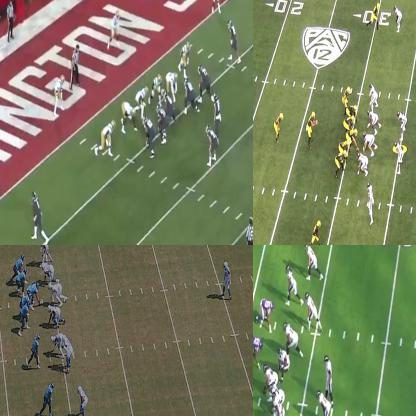CENTER: (264, 363, 280, 392), (346, 128, 360, 147), (31, 281, 43, 302), (161, 91, 171, 104)
DB: (52, 73, 65, 108), (63, 334, 74, 371), (107, 13, 118, 49), (224, 260, 232, 302), (79, 384, 88, 415), (394, 5, 402, 32), (212, 0, 223, 10)
LB: (139, 82, 149, 121), (393, 142, 404, 174), (152, 73, 162, 105), (397, 112, 408, 138), (368, 181, 374, 225), (368, 82, 377, 110), (39, 245, 50, 260)
QB: (324, 354, 332, 401), (307, 112, 316, 147), (211, 91, 219, 122)
SKILL: (32, 193, 42, 242), (43, 381, 57, 415), (206, 126, 218, 164), (306, 245, 321, 275), (230, 20, 240, 64), (306, 294, 318, 330), (30, 334, 42, 368), (309, 218, 323, 244), (287, 266, 296, 304), (318, 391, 331, 415), (370, 2, 380, 27), (274, 113, 282, 144), (342, 86, 350, 107)
